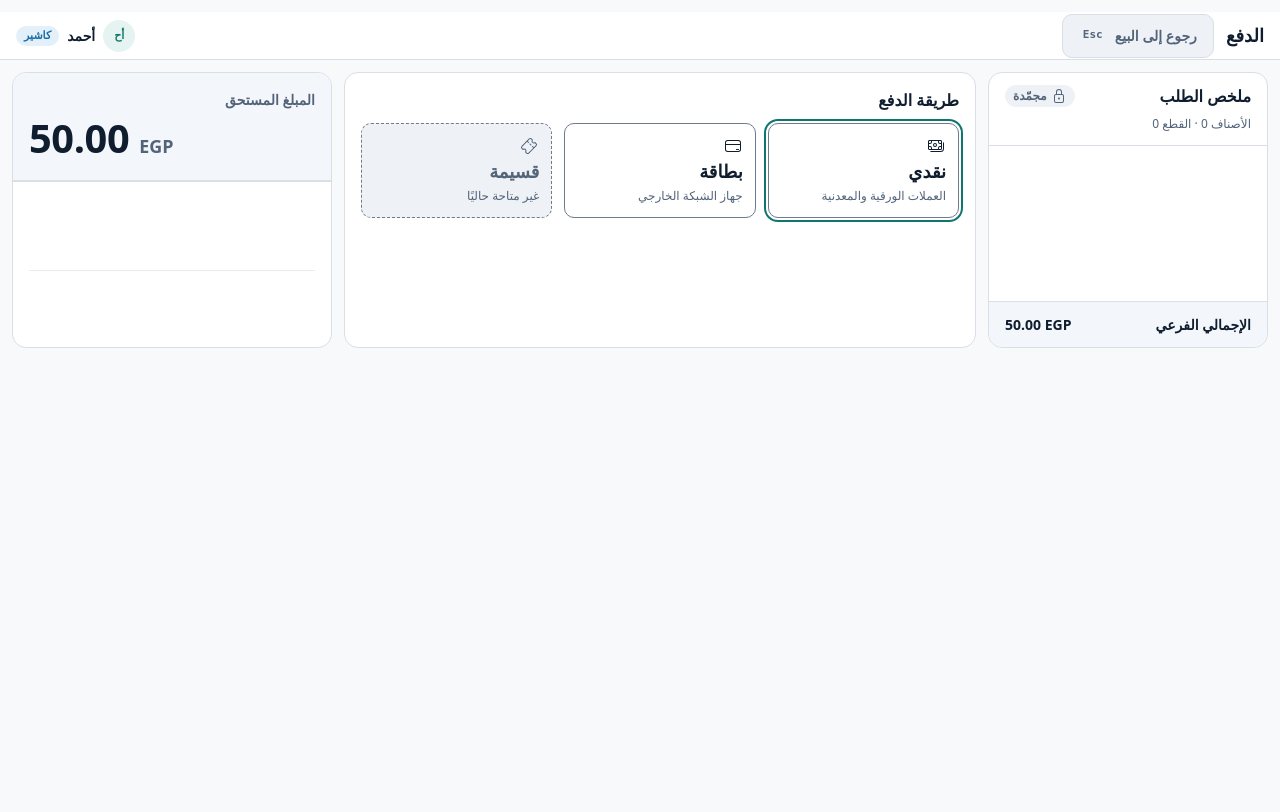
it: RT-256 — card cancel requires a terminal void before another charge (M-P13) › Completion shows no card warning when no card was cancelled
Click the radio button with test id "tender-cash". click: point(863, 170)
box: [768,123,959,218]
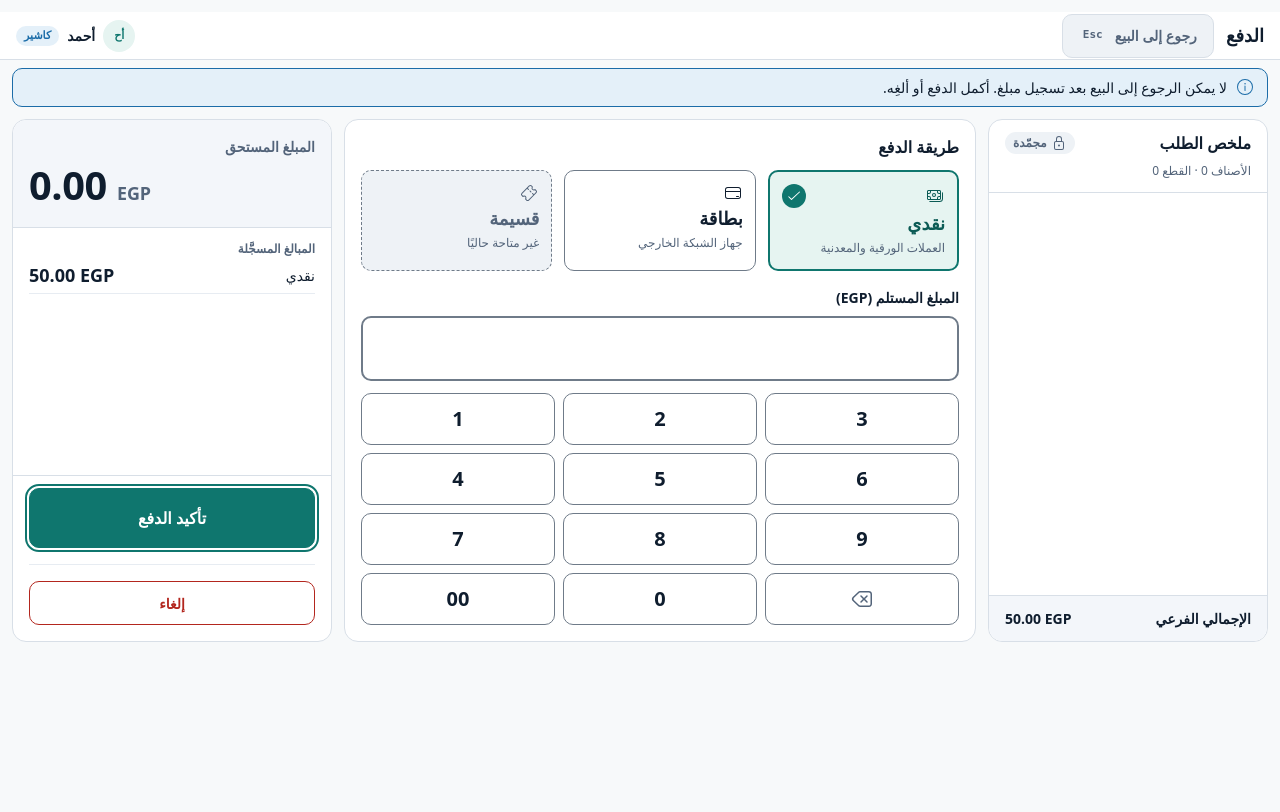
Click the button with test id "payment-surface-confirm". click: point(172, 518)
box: [29,488,315,548]
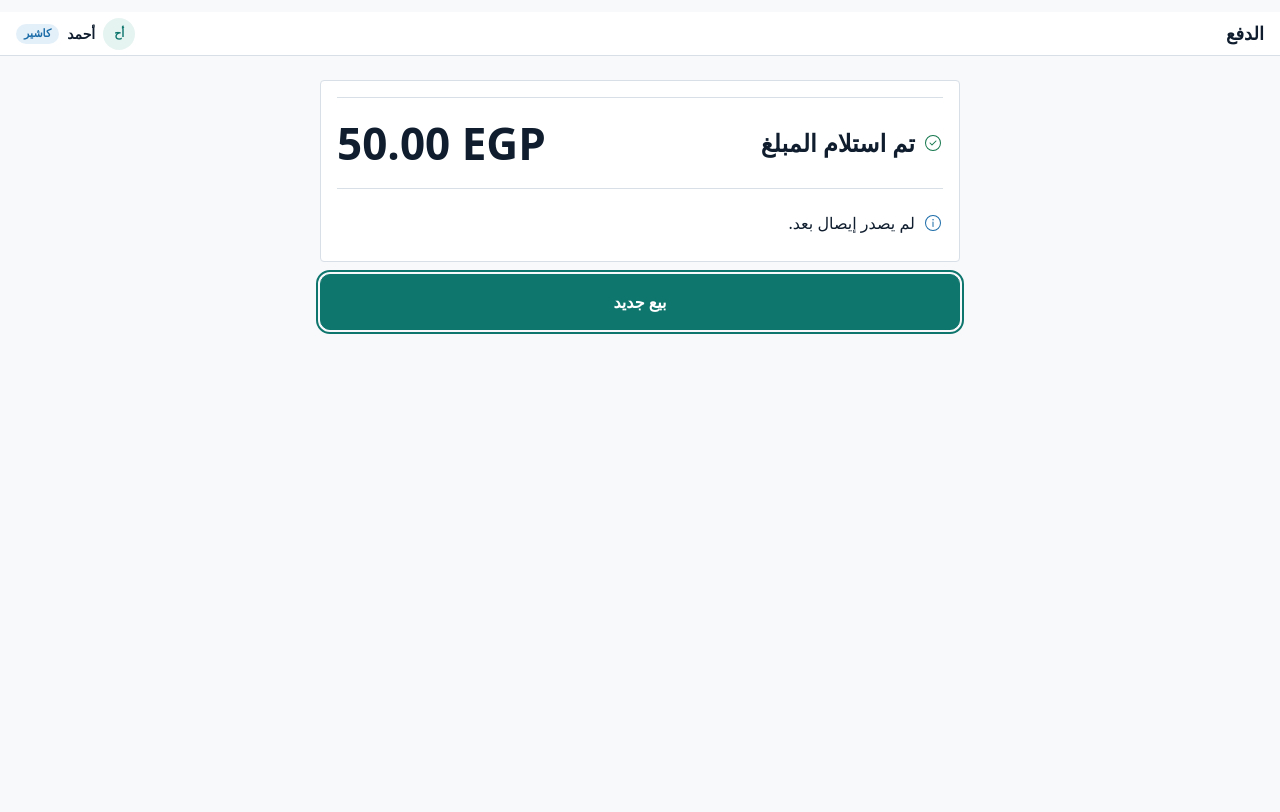
Check: the element with test id "payment-surface-settled" is shown, box [320,80,960,262]
